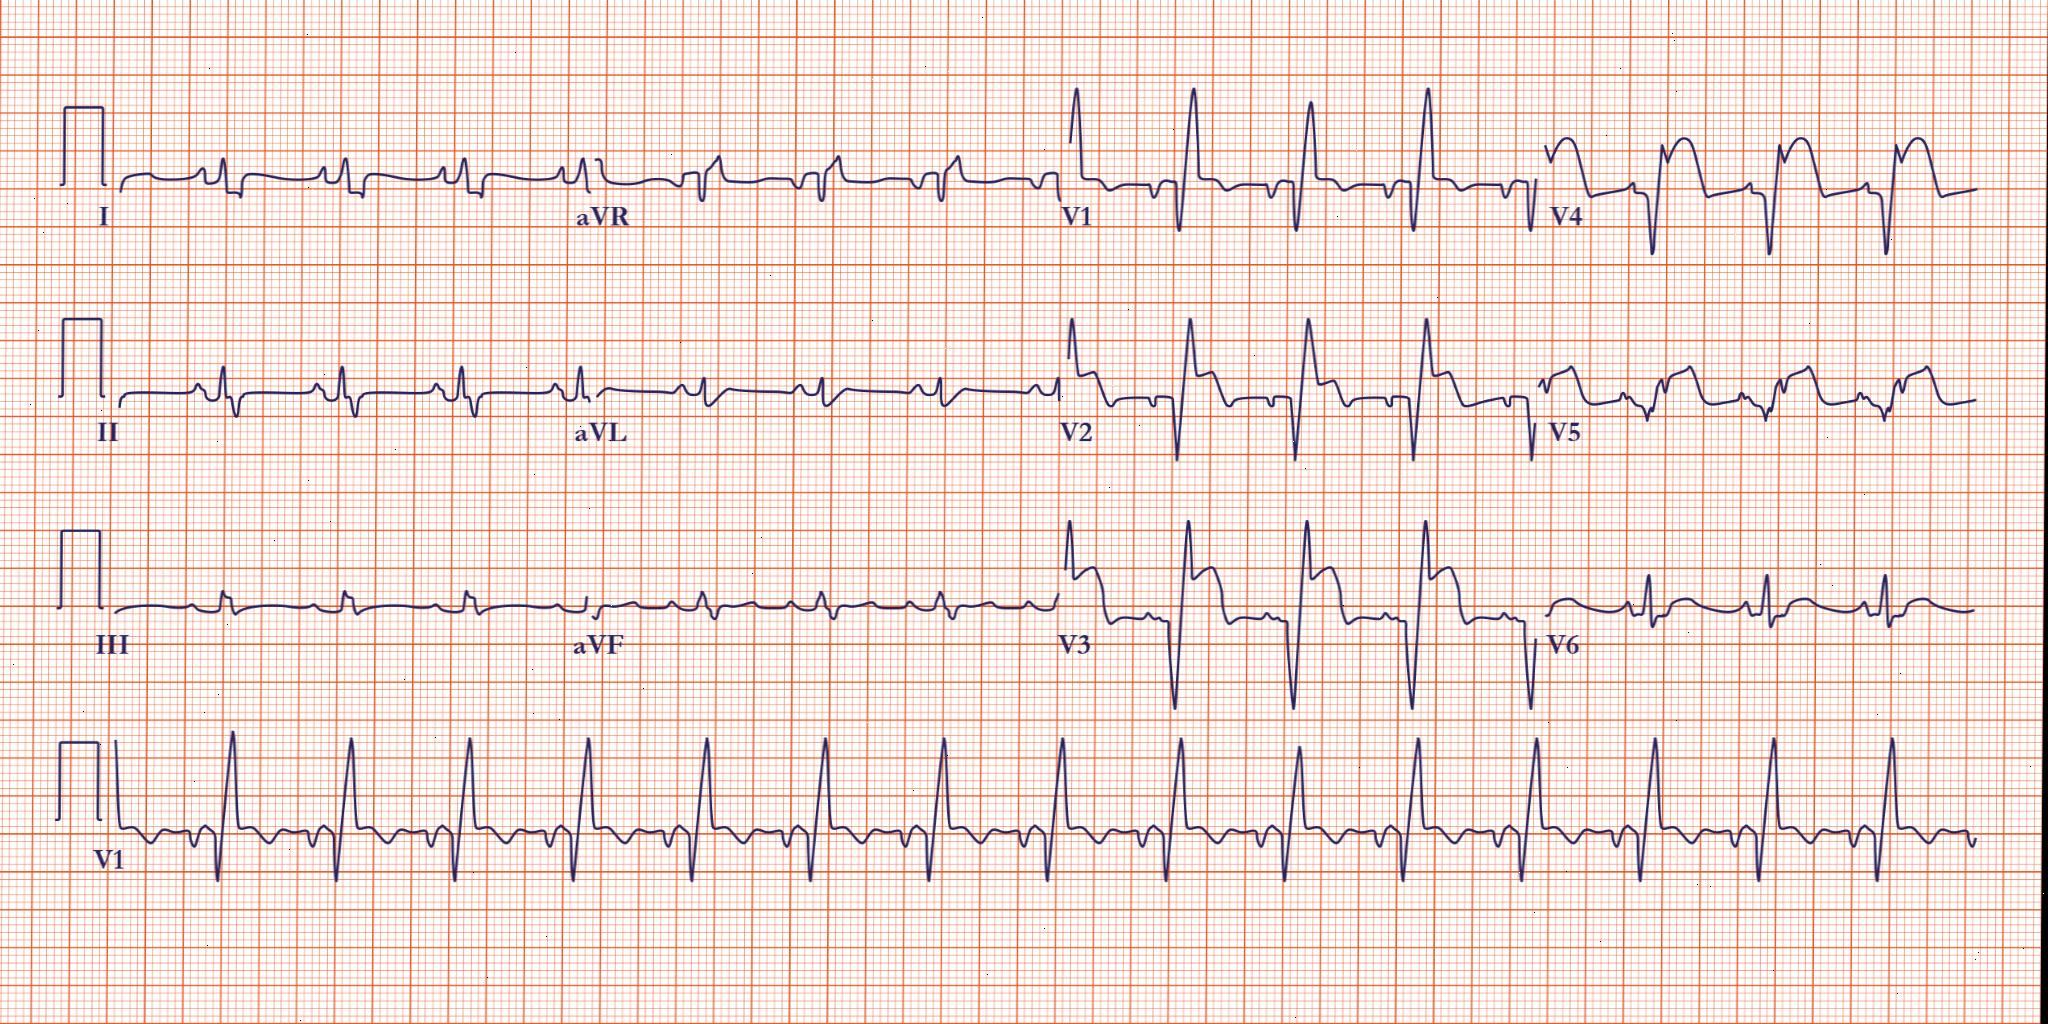Lead_I: (86, 108, 537, 248)
Lead_II: (86, 329, 542, 458)
Lead_III: (85, 536, 550, 684)
Lead_V1: (1050, 57, 1543, 280)
Lead_V2: (1057, 286, 1541, 478)
Lead_V3: (1059, 508, 1548, 726)
Lead_V4: (1541, 68, 1984, 266)
Lead_V5: (1536, 304, 1992, 465)
Lead_V6: (1549, 525, 1998, 684)
Lead_aVF: (549, 533, 1066, 677)
Lead_aVL: (538, 312, 1063, 456)
Lead_aVR: (543, 94, 1061, 274)
